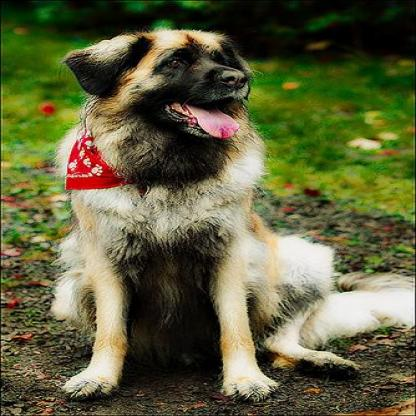Leonberg: (50, 27, 412, 404)
